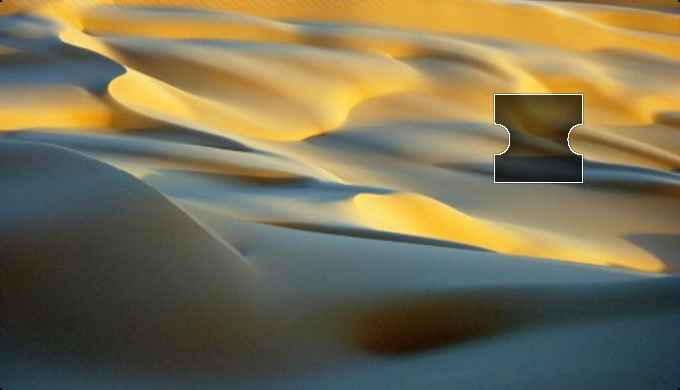gap: (494, 93, 584, 183)
